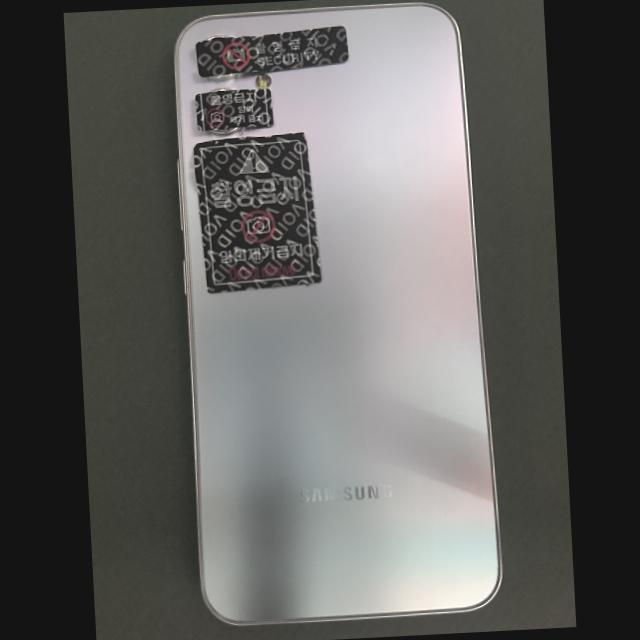phone: (175, 3, 500, 625)
sticker: (194, 133, 321, 293), (196, 26, 349, 78), (195, 89, 274, 132)
